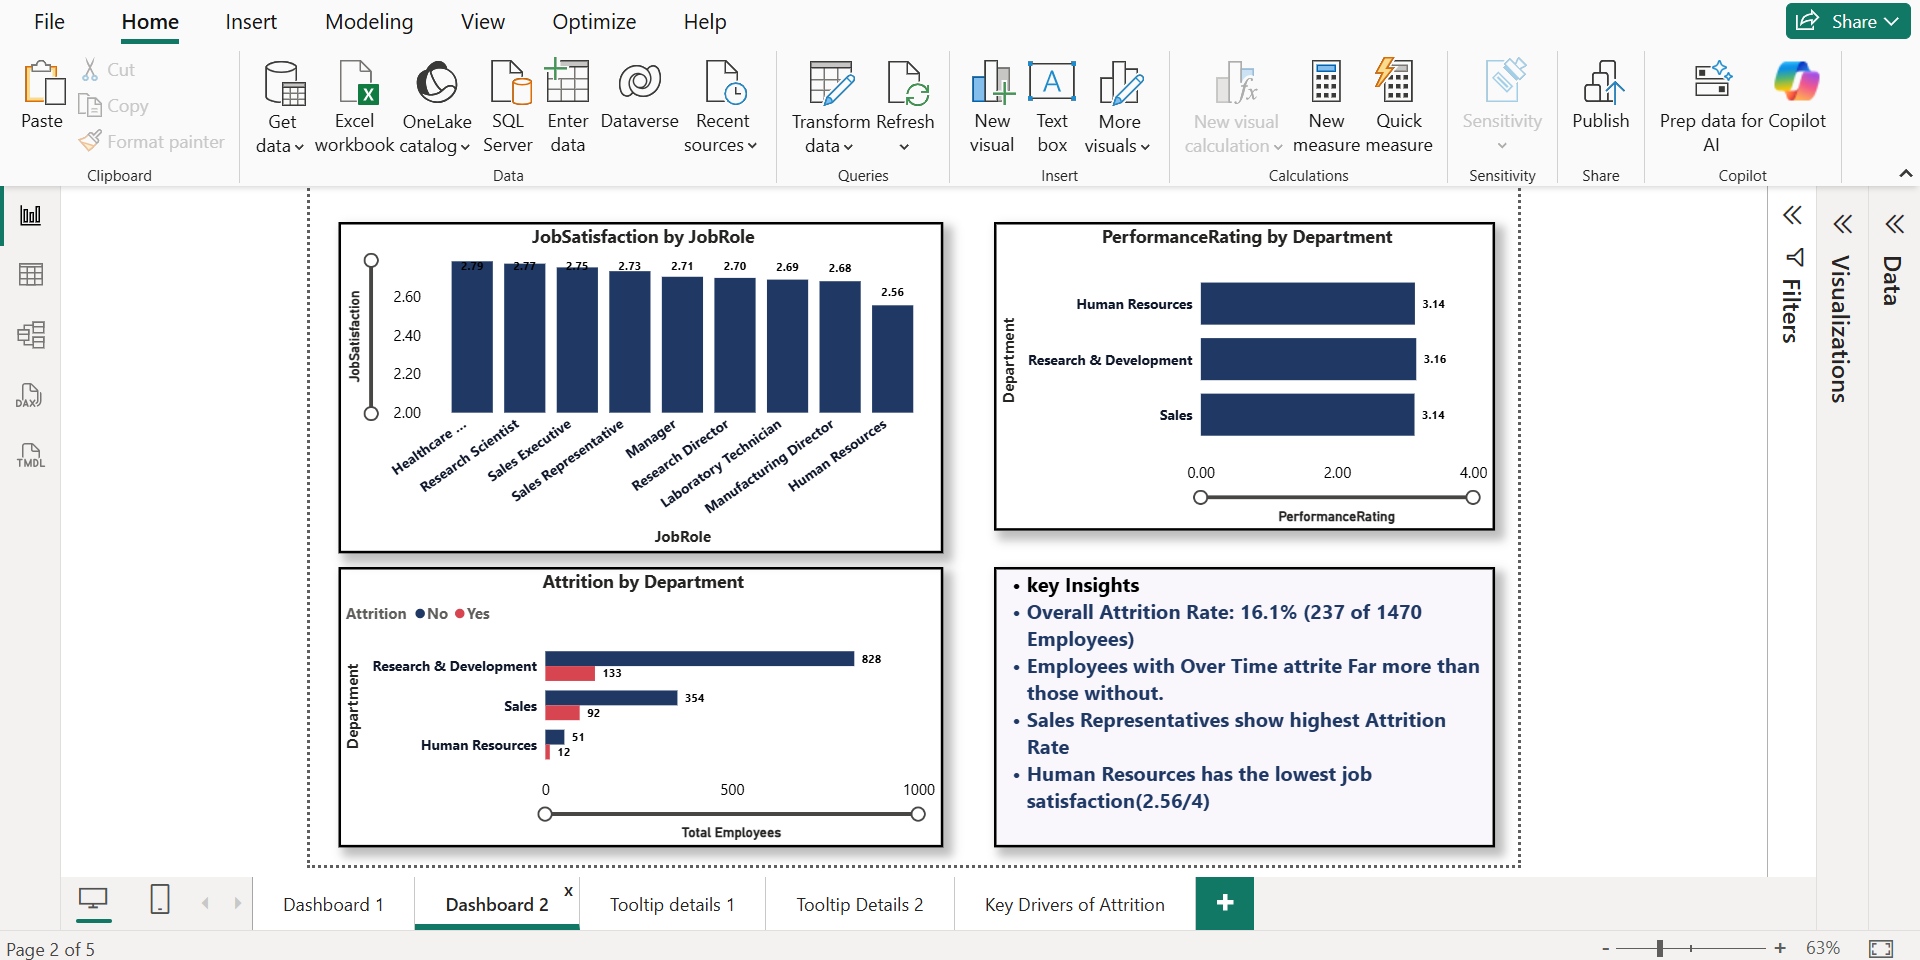

The page's visual inventory and layout, read from the dashboard file:
{"tool":"powerbi","page":{"name":"Dashboard 2","canvas":[1280,720],"ordinal":1},"visuals":[{"type":"clusteredColumnChart","title":" JobSatisfaction by JobRole","fields":{"Y":["Avg(HR_Data.JobSatisfaction)"],"Category":["HR_Data.JobRole"]},"box":[30.2,38.2,620.3,338.8],"z":0},{"type":"clusteredBarChart","title":"PerformanceRating by Department","fields":{"Category":["HR_Data.Department"],"Y":["Avg(HR_Data.PerformanceRating)"]},"box":[671.2,38.2,585.3,338.8],"z":1000},{"type":"clusteredBarChart","title":"Attrition by  Department ","fields":{"Series":["HR_Data.Attrition"],"Category":["HR_Data.Department"],"Y":["HR_Data.Total Employees"]},"box":[30.2,404,620.3,297.4],"z":2000},{"type":"textbox","box":[725,404,555,316],"z":3000},{"type":"textbox","box":[671.2,404,585.3,297.4],"z":4000}]}

Visuals, with their boxes on the page's 1280x720 design canvas (x1, y1, x2, y2). These are canvas units, not pixel positions in the 1920x960 screenshot, which may show the page scaled, cropped or inside an application window:
" JobSatisfaction by JobRole" clusteredColumnChart: l=30, t=38, r=650, b=377
"PerformanceRating by Department" clusteredBarChart: l=671, t=38, r=1256, b=377
"Attrition by  Department " clusteredBarChart: l=30, t=404, r=650, b=701
textbox: l=725, t=404, r=1280, b=720
textbox: l=671, t=404, r=1256, b=701
